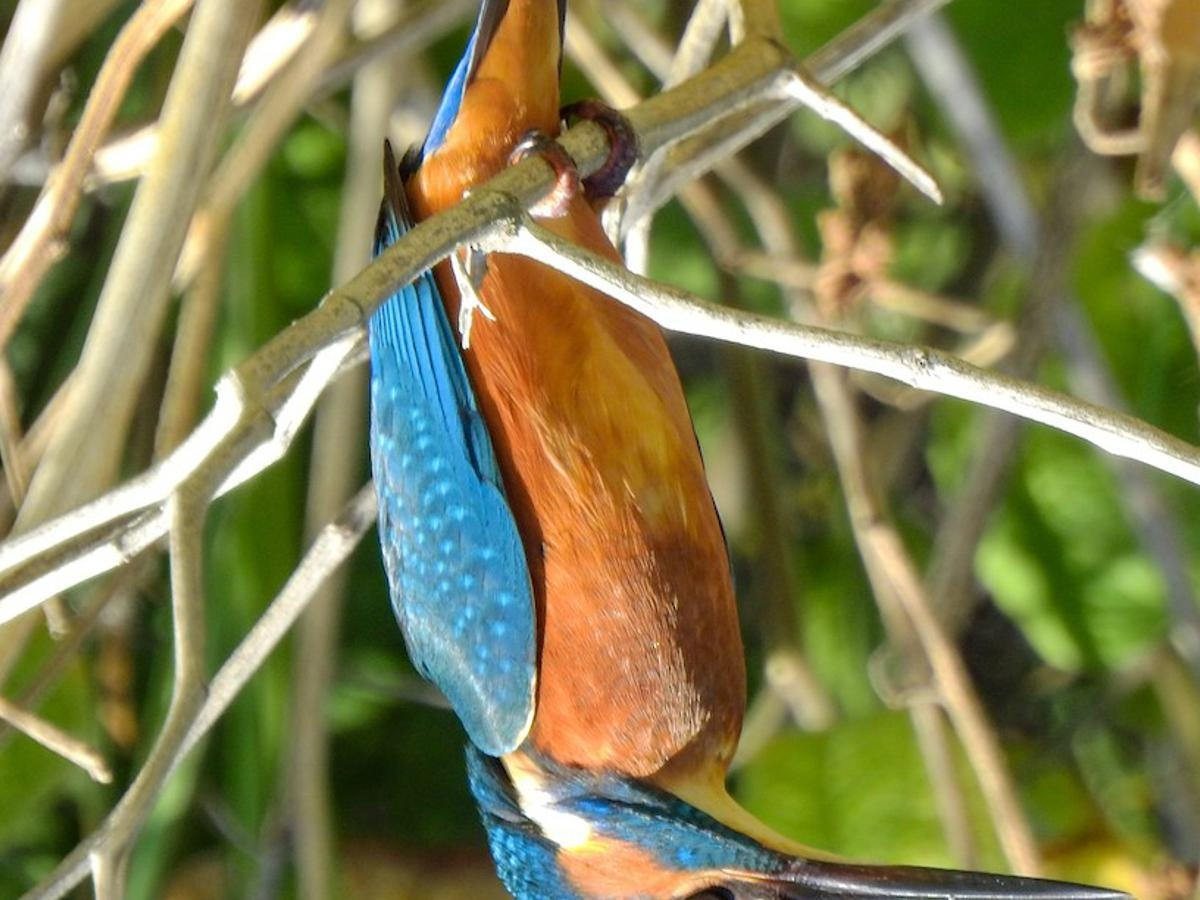kingfisher: (324, 4, 1111, 900)
